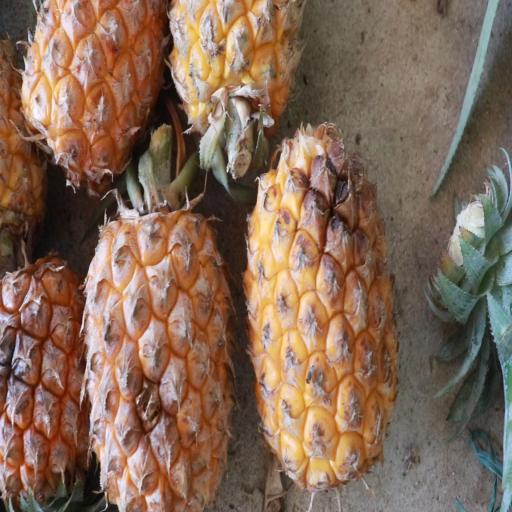Pineapple - v8 v1: (239, 119, 403, 498), (78, 164, 240, 512), (19, 0, 174, 187), (0, 244, 102, 511), (168, 0, 310, 156)
